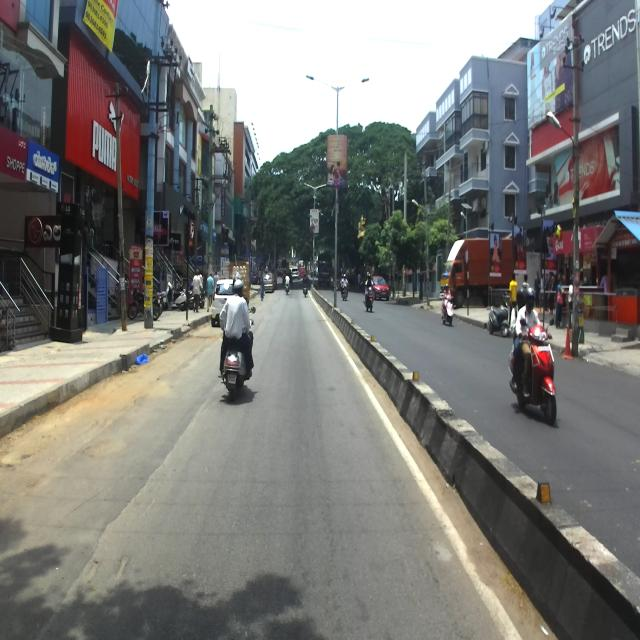electric pole ahead at: (107, 75, 140, 342), (140, 48, 159, 327)
motorcycle ahead at: (511, 312, 559, 430), (220, 343, 256, 393)
